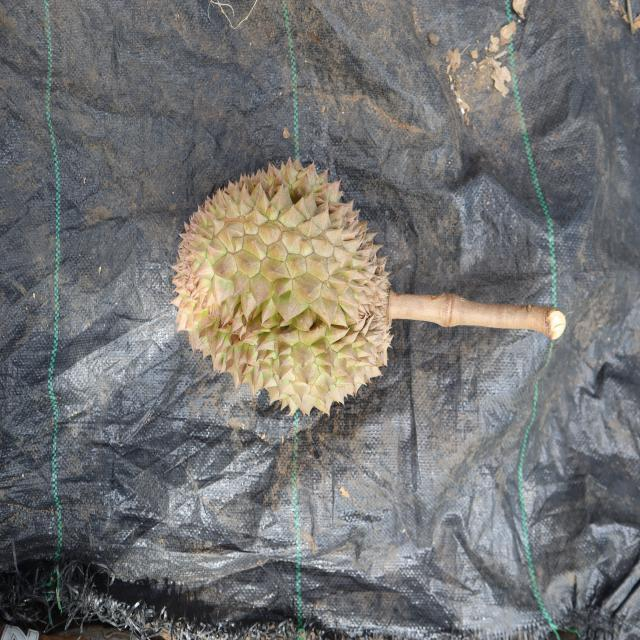mature: (172, 156, 396, 420)
